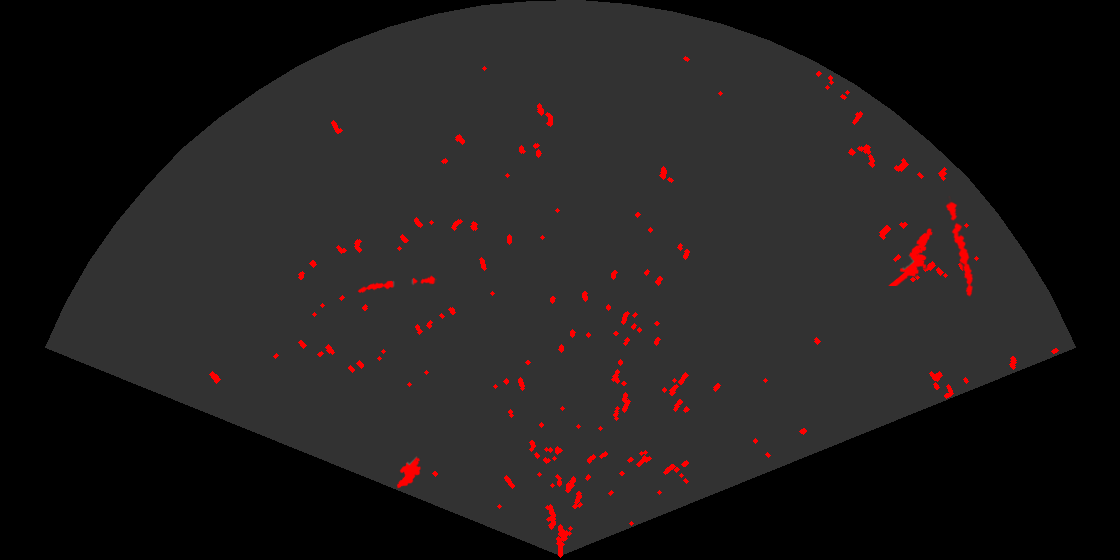AUV: (395, 455, 423, 490)
chain: (944, 196, 975, 299), (356, 274, 437, 294)
frogman: (887, 227, 934, 286)
